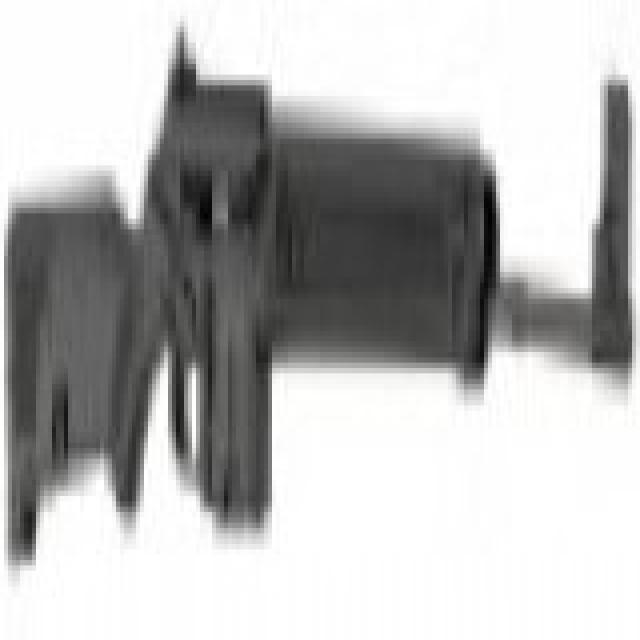Gun: (0, 18, 640, 583)
